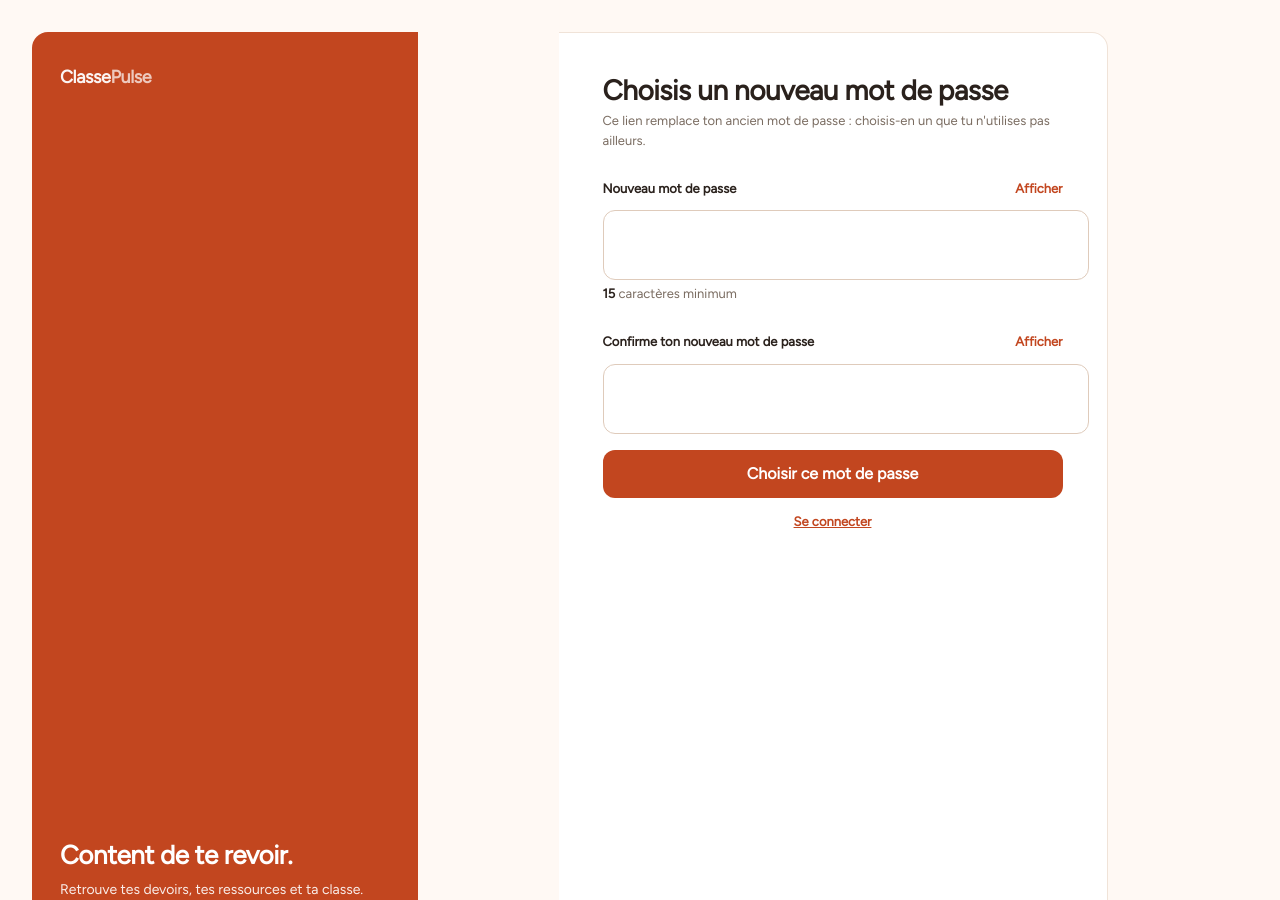
it: réinitialisation du mot de passe (§ 3.2) › 503 : message du serveur sans rien effacer
This screenshot has width=1280, height=900.
Type "une phrase de passe neuve" into the password field labelled "Nouveau mot de passe" at (846, 245), box [602,210,1088,280]
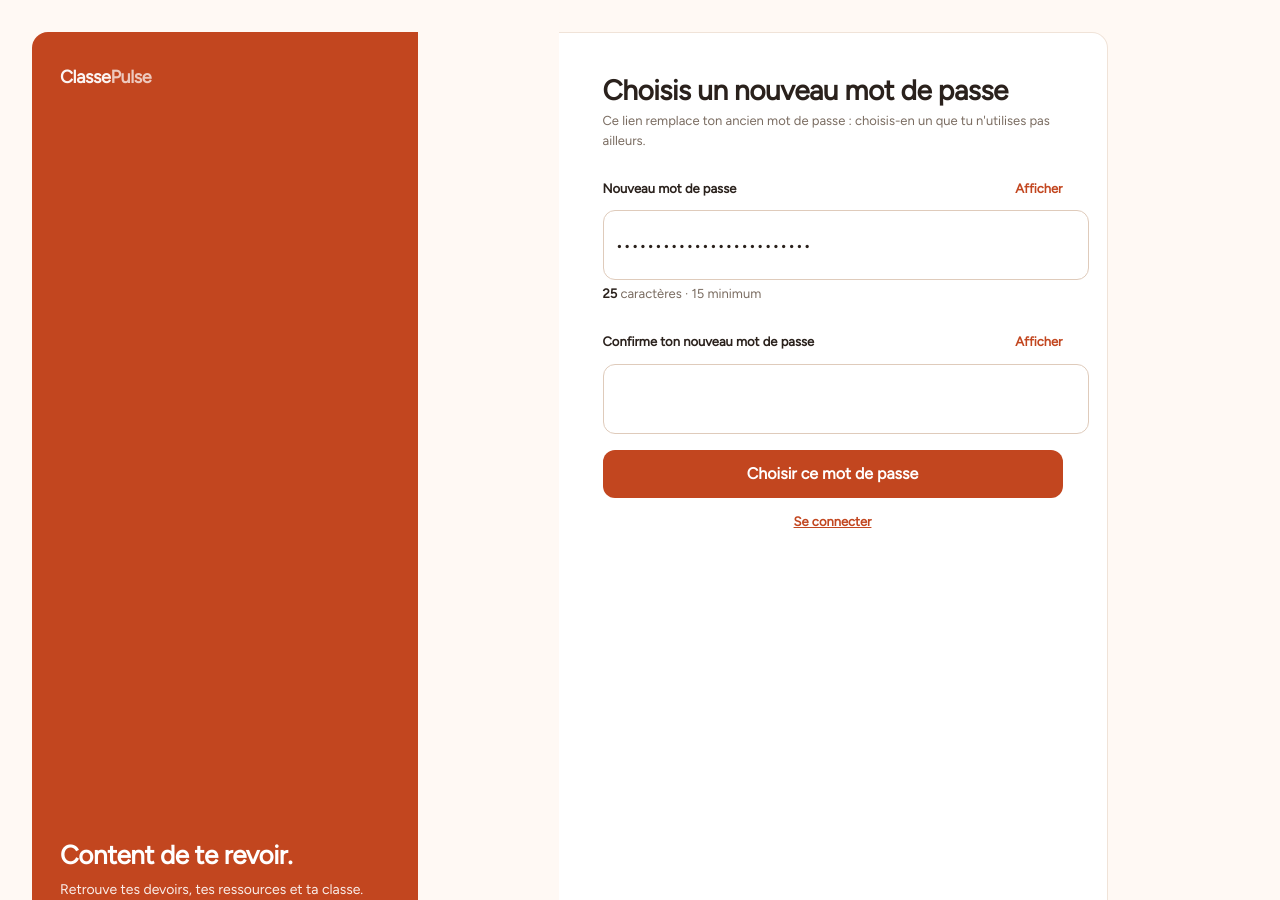
Type "une phrase de passe neuve" into the password field labelled "Confirme ton nouveau mot de passe" at (846, 398), box [602,364,1088,434]
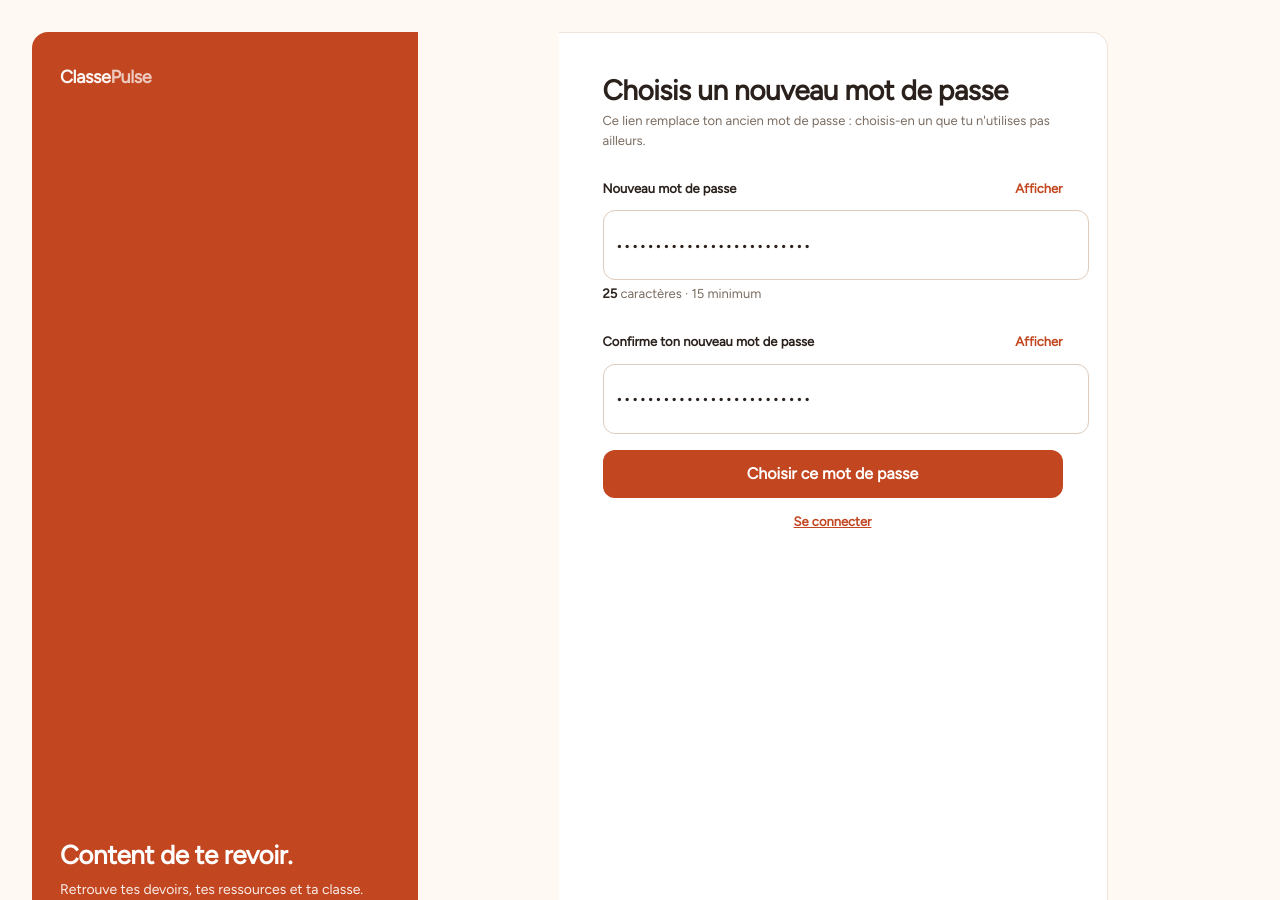
Click the button "Choisir ce mot de passe" at (832, 474), box [602,450,1062,498]
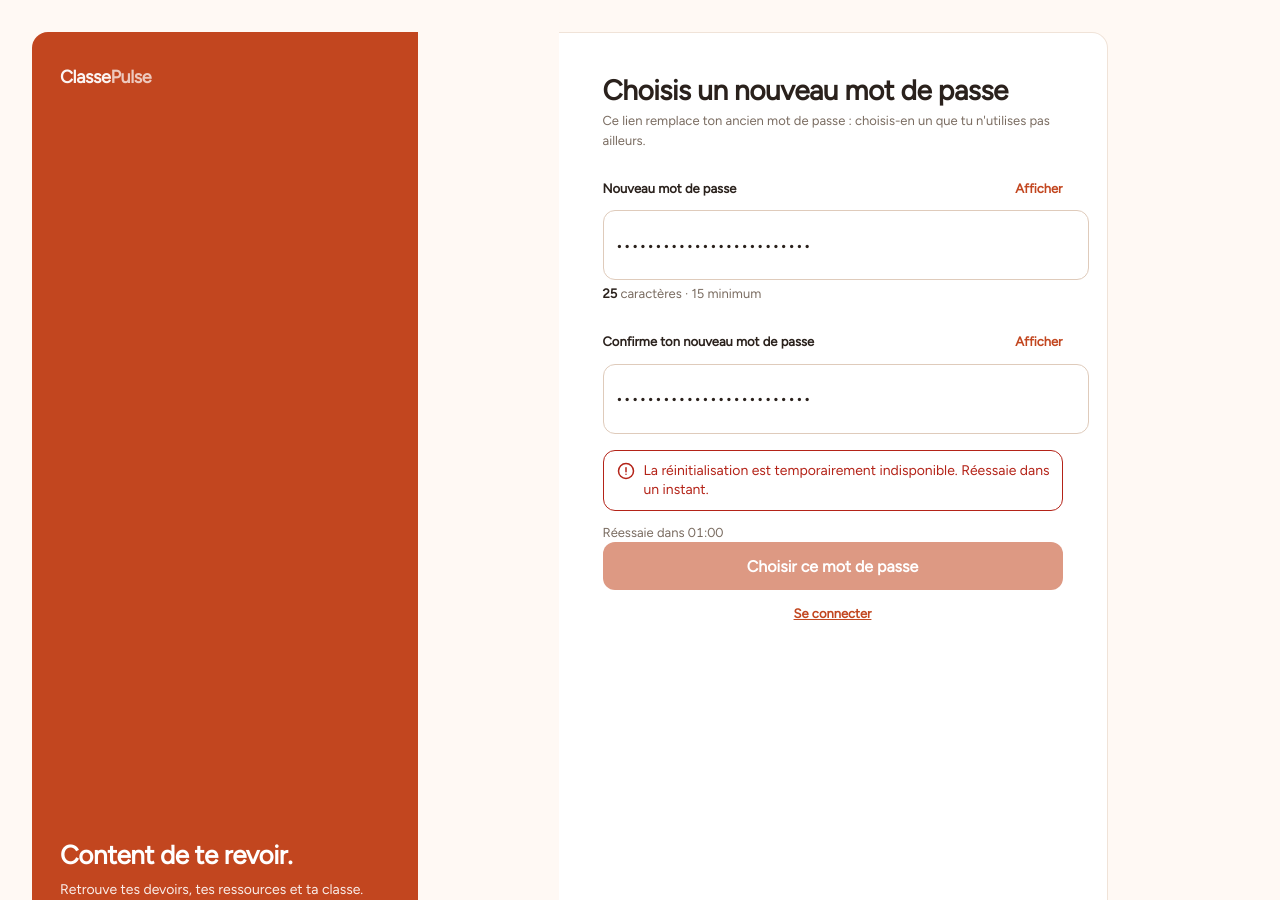
Expected: the message shows "La réinitialisation est temporairement indisponible.", [644,462,1050,498]
Expected: the text "01:00" is shown, [688,525,723,540]
